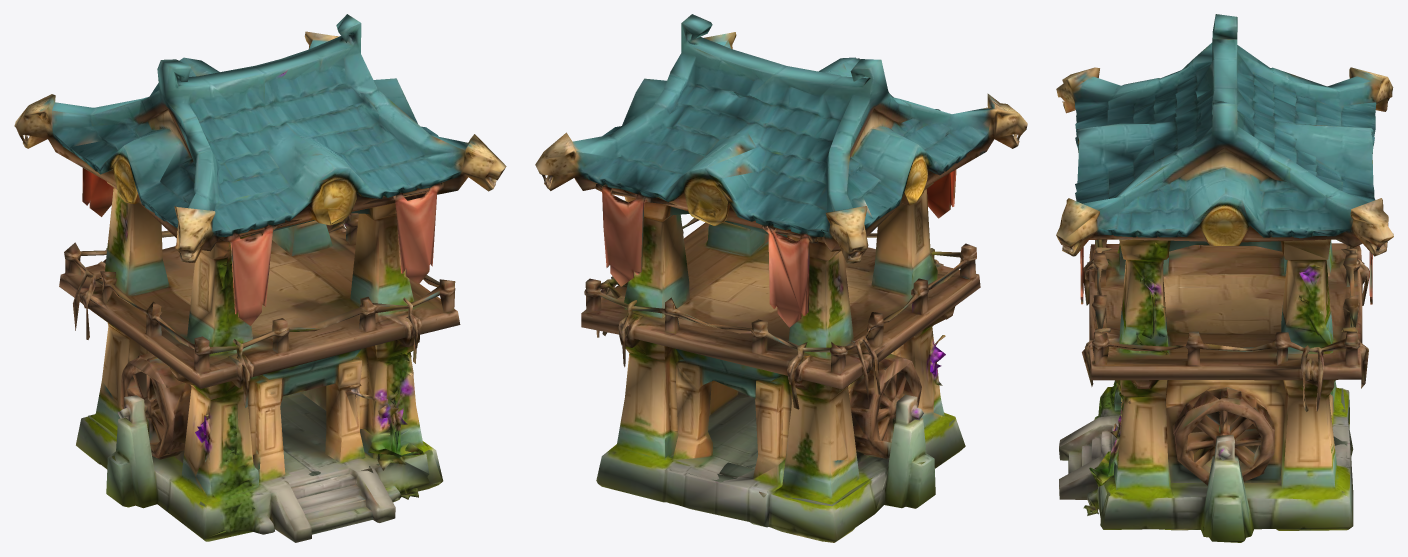
Rendered from fal-harbor.glb.
The picture shows the model from 3 angles, left to right: view 1: azimuth 30°, elevation 25°; view 2: azimuth 150°, elevation 25°; view 3: azimuth 270°, elevation 25°; orthographic projection. The views are drawn at different scales.
Parts seen in each view (by area): view 1: node_0; view 2: node_0; view 3: node_0.
Part boxes in pixels (x1,y1,x2,y2): node_0: (14, 14, 506, 542); node_0: (535, 14, 1027, 542); node_0: (1056, 14, 1393, 542).
Size of the model in its own units: 0.7986 by 0.9972 by 0.7319.
Materials: 1 (1 with a texture image).
